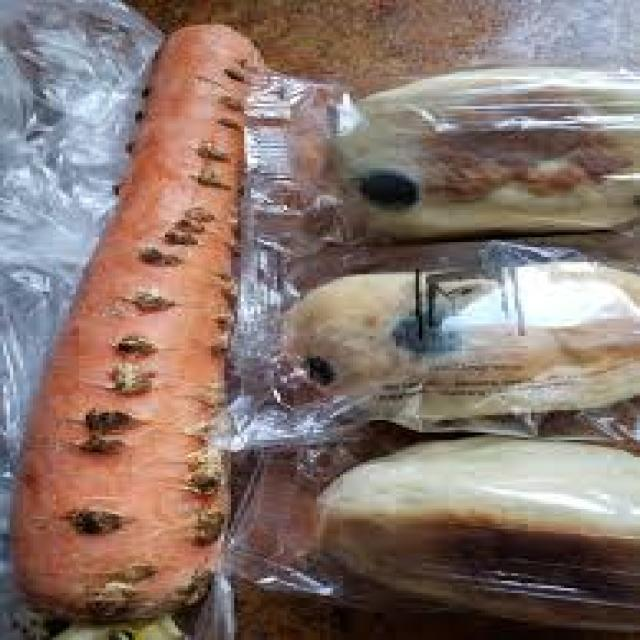Stale_Carrot: (11, 31, 267, 621)
